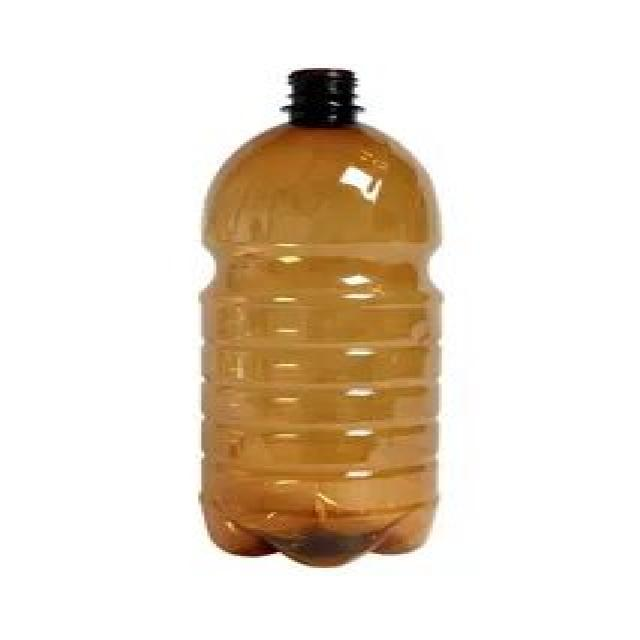brown: (200, 70, 438, 567)
